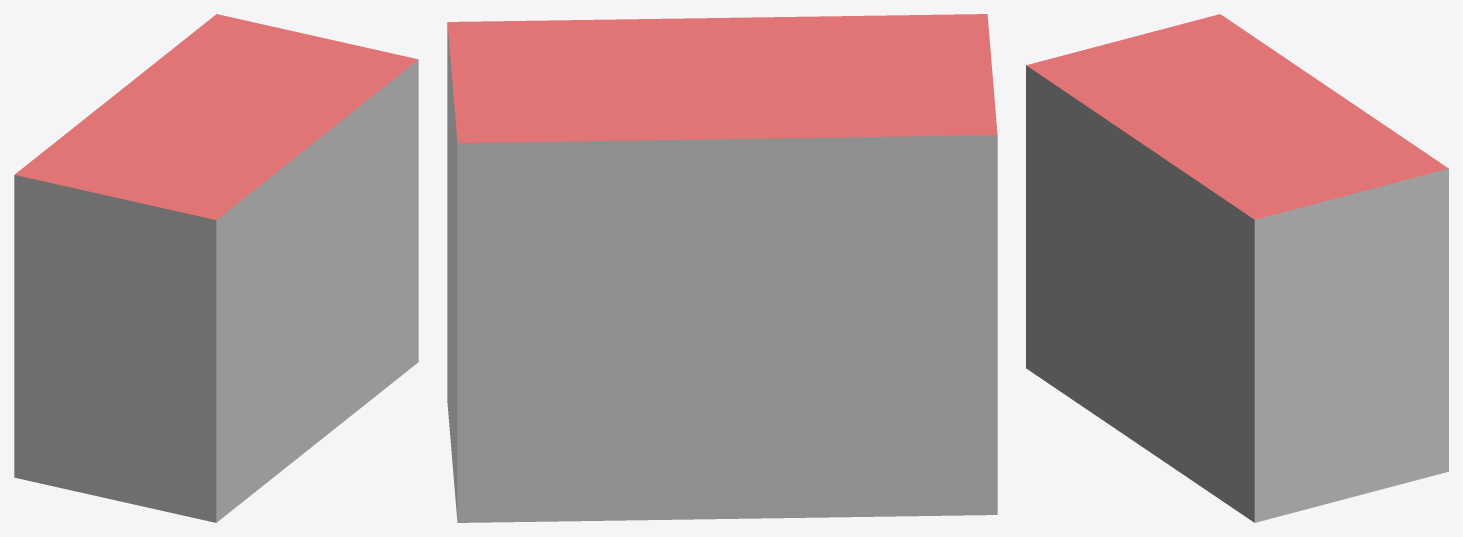
The model's file is ID_d002543d-f1ac-4b24-ac9a-9fde2e5cd9d7.gltf.
3 views of the same model, side by side, from view 1: azimuth 30°, elevation 25°; view 2: azimuth 150°, elevation 25°; view 3: azimuth 270°, elevation 25° (orthographic). The views are drawn at different scales.
Visible parts, largest first — view 1: Z_UP; view 2: Z_UP; view 3: Z_UP.
Boxes of the visible parts, x1,y1,x2,y2 form: Z_UP: (14,14,418,522); Z_UP: (447,14,997,522); Z_UP: (1026,14,1448,522).
Size of the model in its own units: 27.67 by 19 by 24.01.
